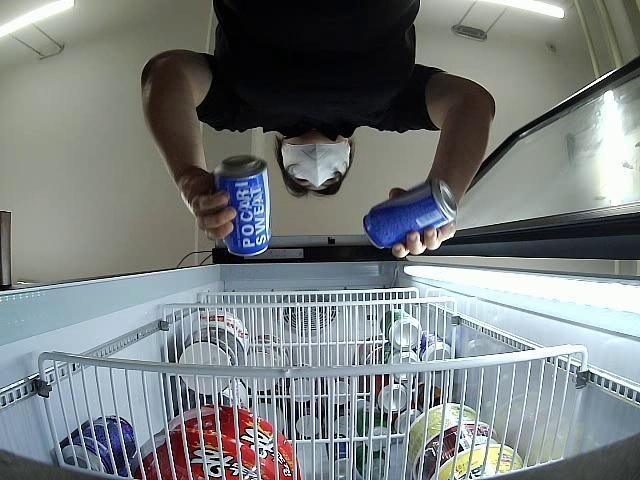13_pocariSweat: (361, 181, 458, 250), (212, 154, 271, 259)
